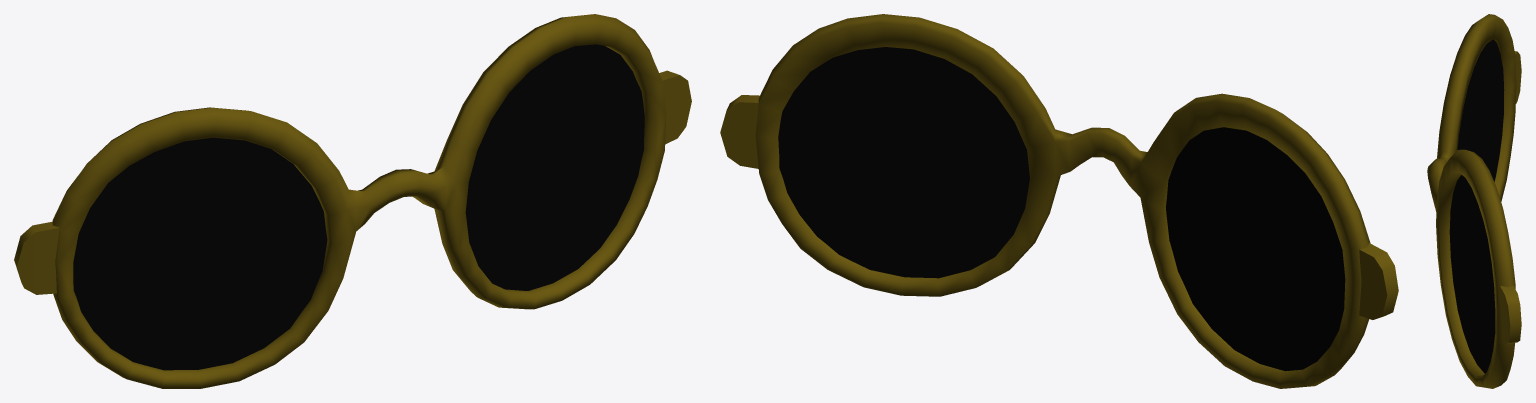
File: AccessoryGlassCircle1.glb
3 renders of one model, left to right at view 1: azimuth 30°, elevation 25°; view 2: azimuth 150°, elevation 25°; view 3: azimuth 270°, elevation 25°, orthographic. The views are drawn at different scales.
Visible parts, largest first — view 1: AccessoryAlpha1__mAccessoryAlpha, Accessory__mAccessory; view 2: AccessoryAlpha1__mAccessoryAlpha, Accessory__mAccessory; view 3: Accessory__mAccessory, AccessoryAlpha1__mAccessoryAlpha.
Part boxes in pixels (x1=…): AccessoryAlpha1__mAccessoryAlpha: x1=73, y1=44, x2=644, y2=370; Accessory__mAccessory: x1=14, y1=14, x2=691, y2=388; AccessoryAlpha1__mAccessoryAlpha: x1=778, y1=47, x2=1345, y2=371; Accessory__mAccessory: x1=720, y1=14, x2=1398, y2=388; Accessory__mAccessory: x1=1427, y1=14, x2=1521, y2=388; AccessoryAlpha1__mAccessoryAlpha: x1=1449, y1=39, x2=1504, y2=373.
Bounding box in the file's own units: 6.21 × 2.44 × 0.9632.
Materials: 2 (2 with a texture image).
